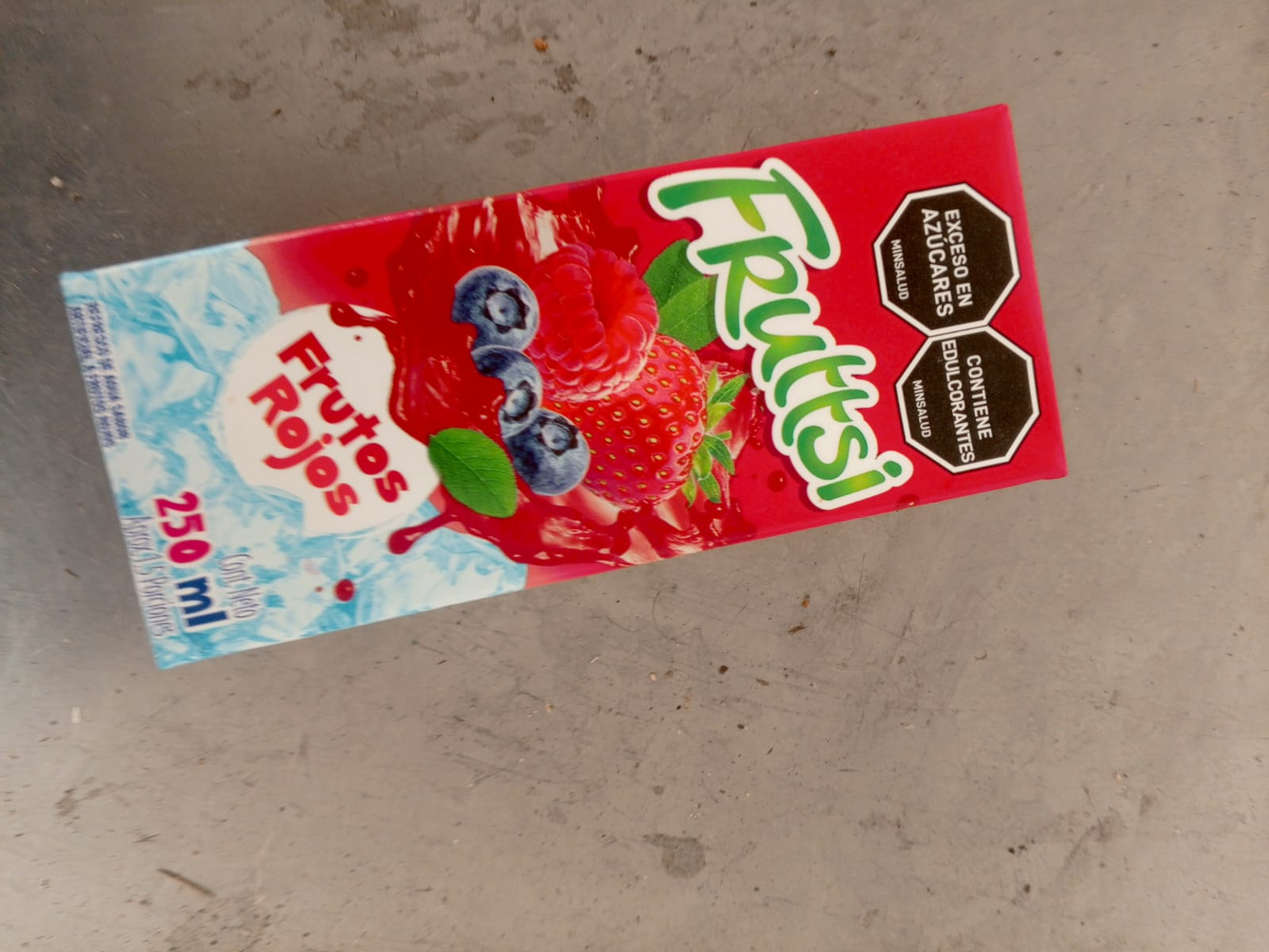Carton: (57, 106, 1069, 669)
